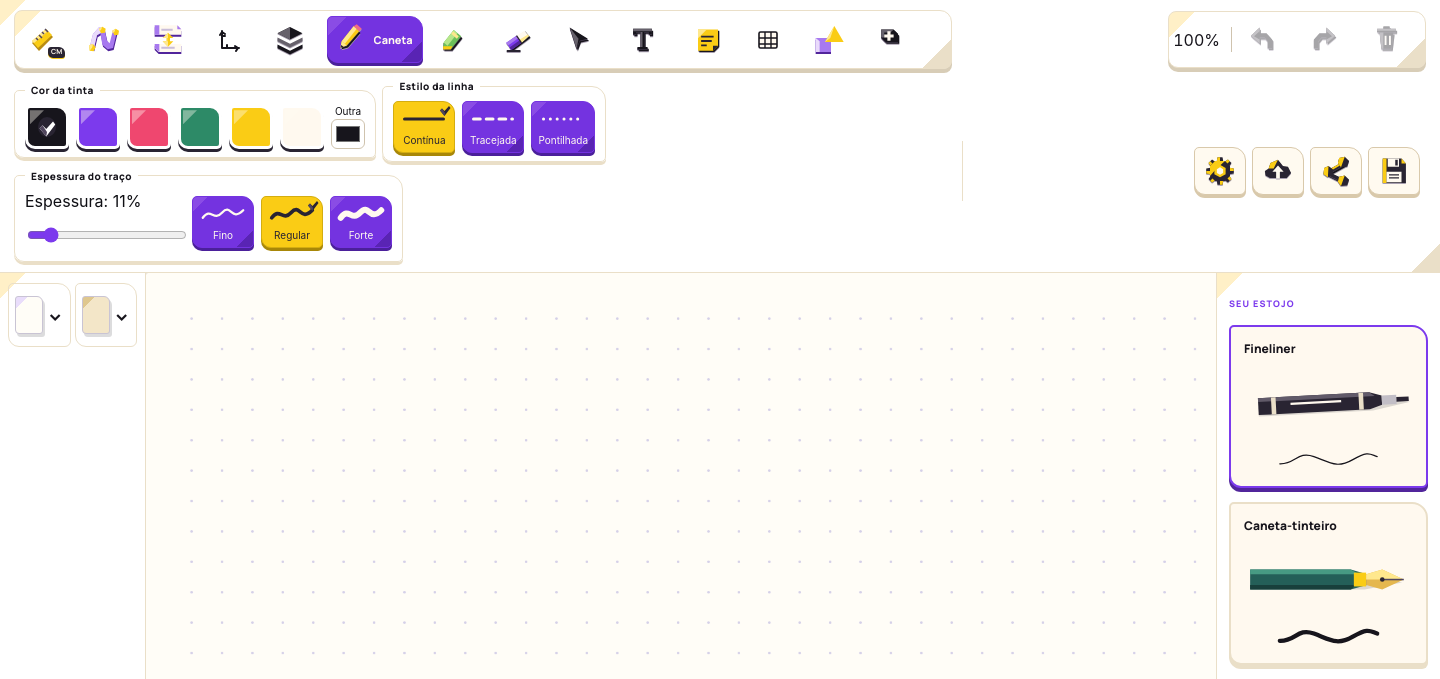
Test: inserir formas pelo teclado, sem desenhar › insere Retângulo e deixa o objeto pronto para mover
Click the button named "Inserir sem desenhar".
click(832, 40)  # box [803,16,861,64]
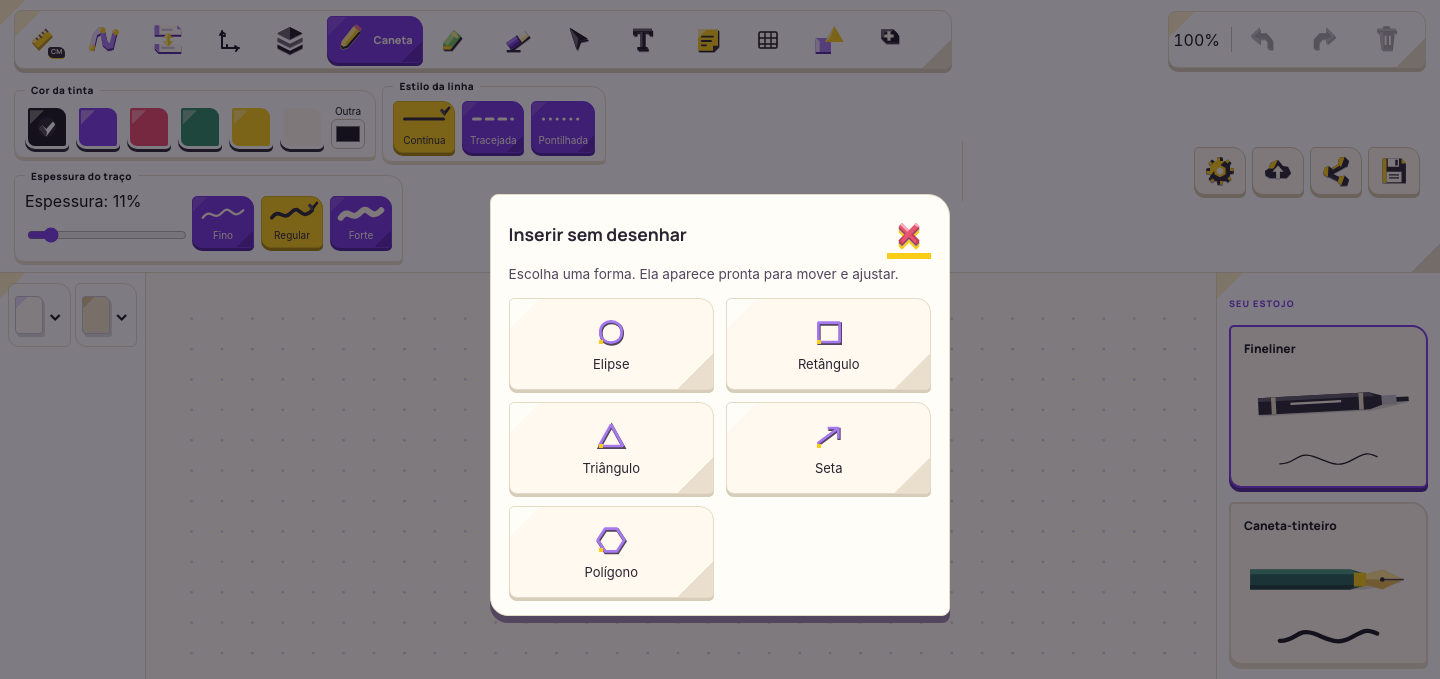
Now the dialog "Inserir sem desenhar" is shown, box [490,194,950,616]
Click the button "Retângulo".
click(829, 344)  # box [726,298,931,390]
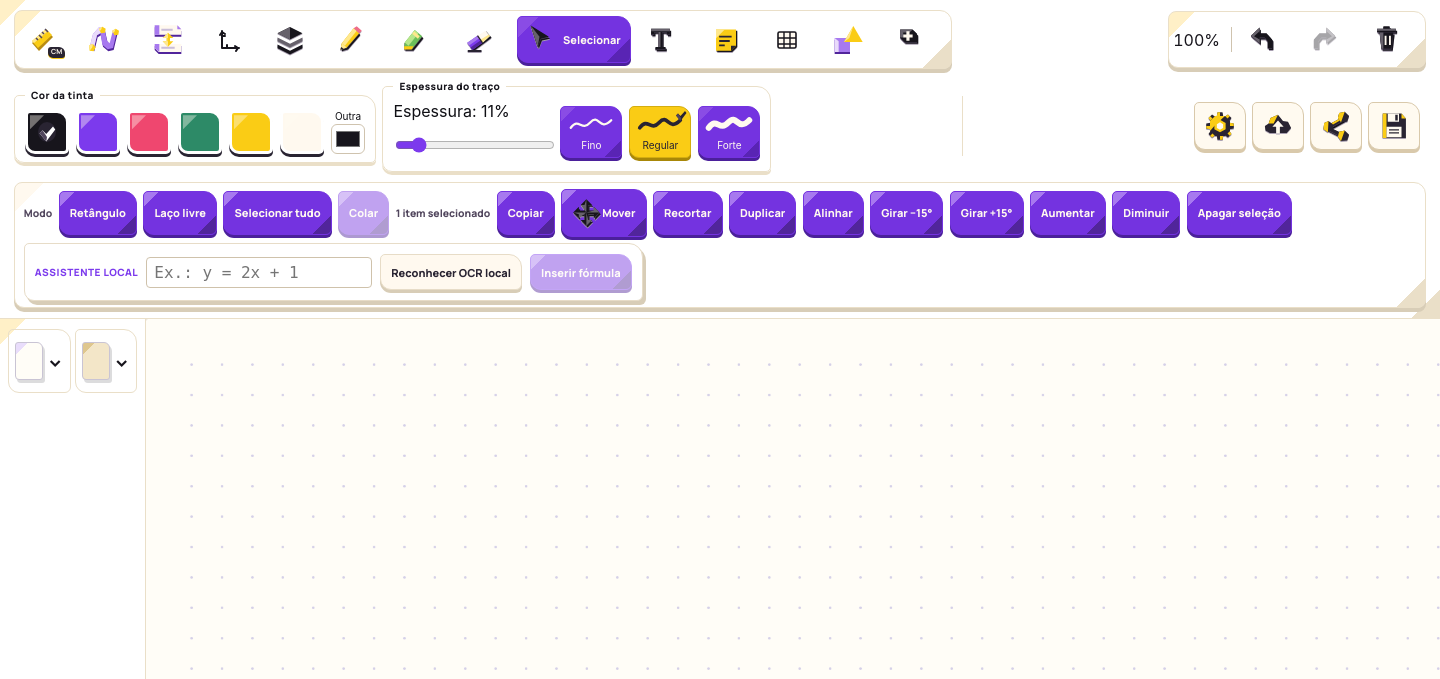
Now the button "Mover" is shown, box [561,189,647,237]
Now the heading "Inserir sem desenhar" is gone
Now the text "1 item selecionado" is shown, box [396,206,490,220]
